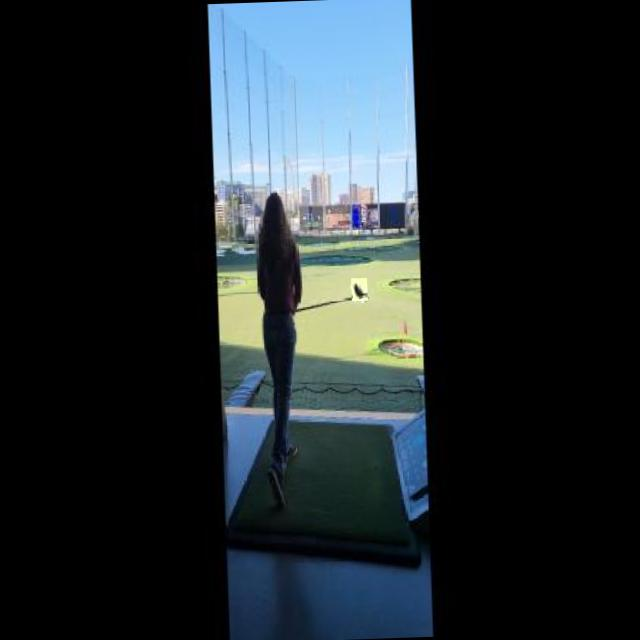club head: (350, 278, 368, 302)
